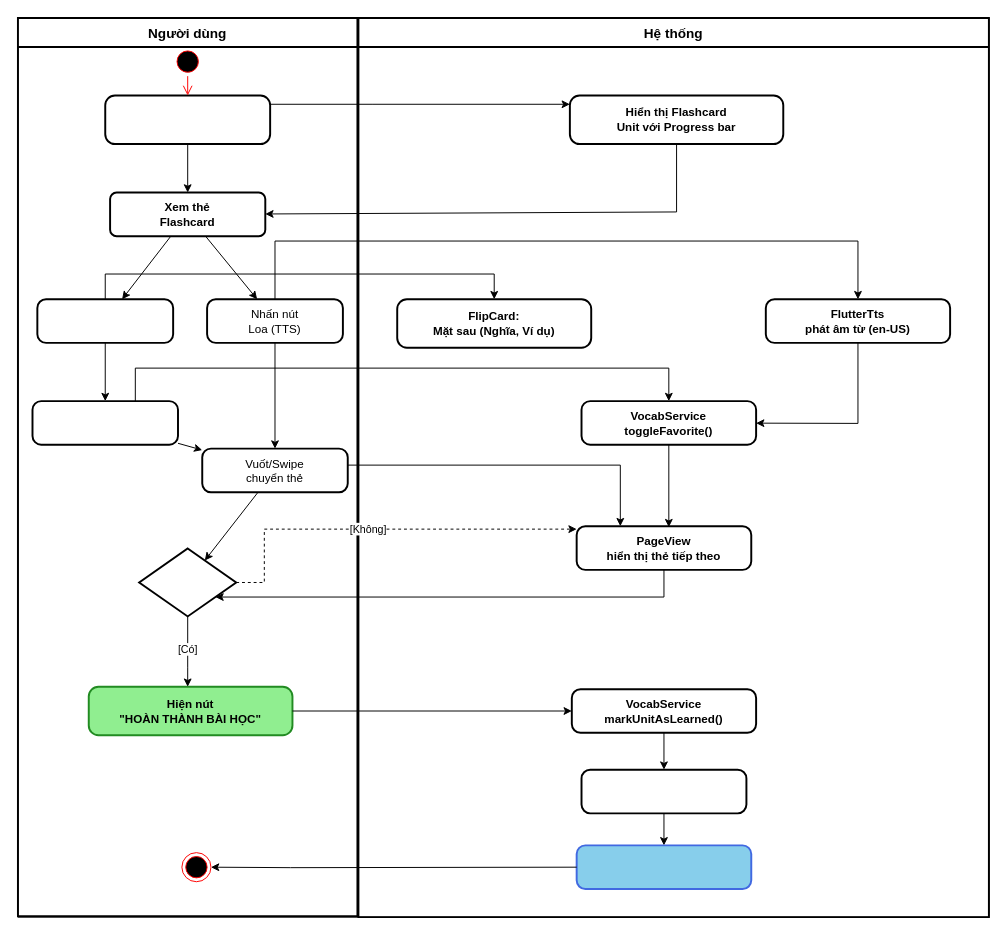
Image size: 1006x934. Some labels were removed from this diagram. Each missing label, with the centre of its shape:
Chọn 1 topic để học: point 187,119
Hiện Dialog "Hoàn thành!": point 663,791
Lật thẻ (Chạm): point 105,320
Nhấn nút Tim (Yêu thích): point 104,422
Quay về màn hình Từ vựng: point 663,866
Từ cuối cùng?: point 187,582
